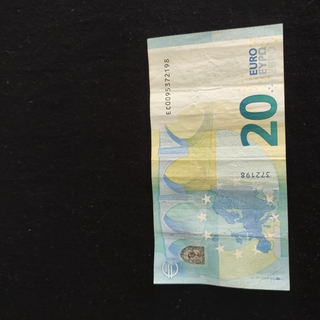20EUROBack: (146, 23, 291, 292)
